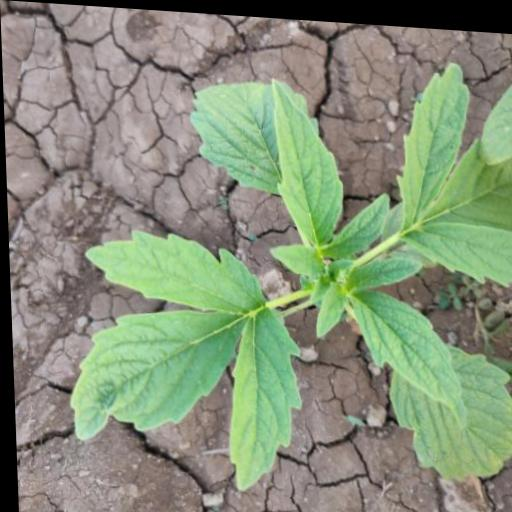crop: (59, 37, 512, 497)
